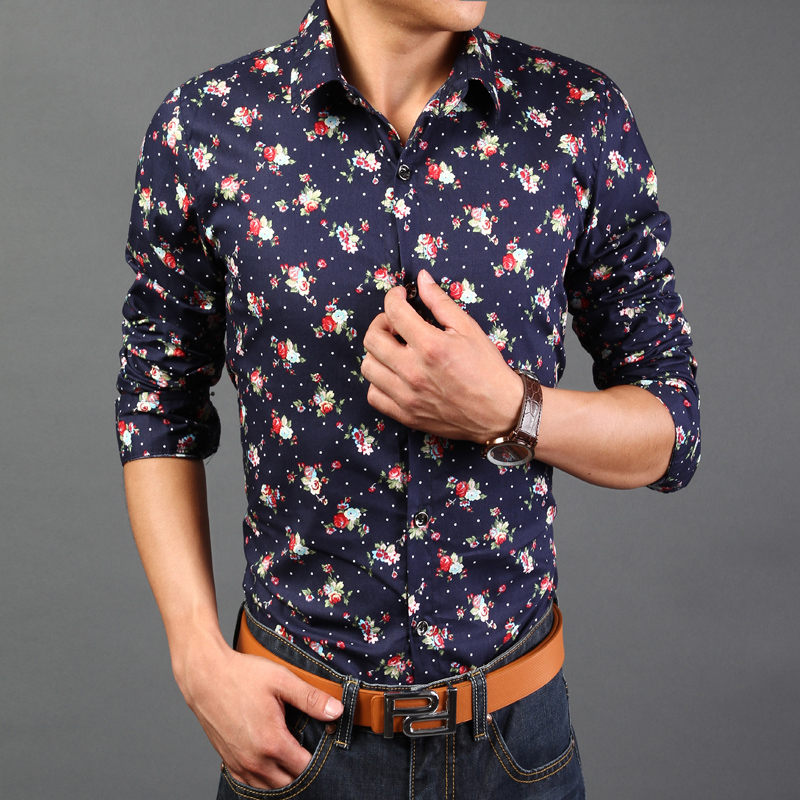Shirt: (111, 6, 722, 685)
